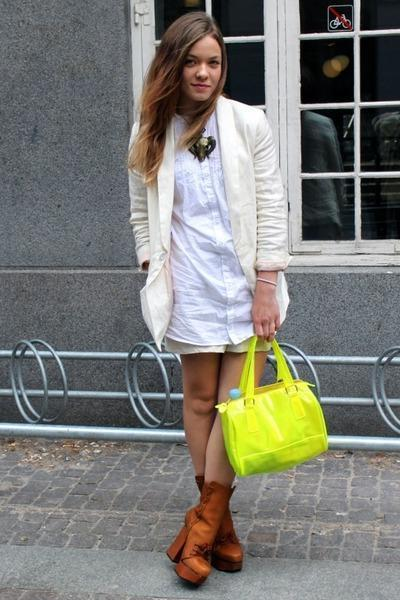Shorts: (160, 322, 272, 362)
jacket: (127, 92, 294, 347)
short sleeve shirt: (162, 113, 264, 344)
